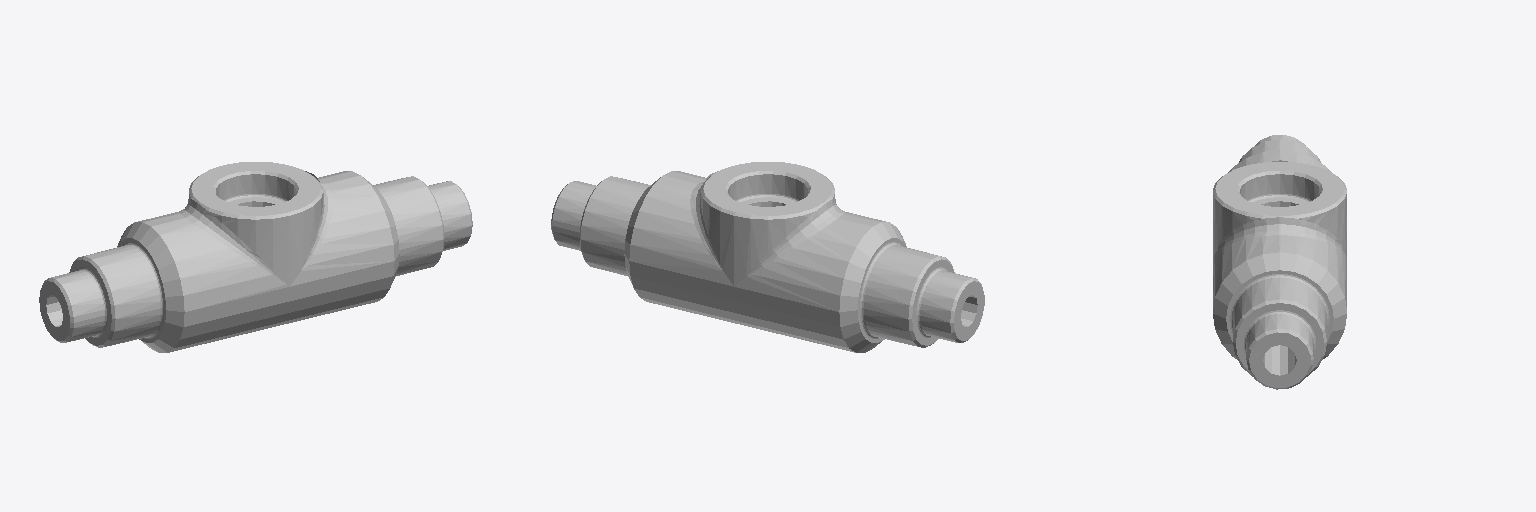
The model's file is right_hand_roll_link.obj.
3 views of the same model, side by side, from view 1: azimuth 30°, elevation 25°; view 2: azimuth 150°, elevation 25°; view 3: azimuth 270°, elevation 25° (orthographic).
Visible parts, largest first — view 1: right_hand_roll_link; view 2: right_hand_roll_link; view 3: right_hand_roll_link.
Boxes of the visible parts, box(x1,y1,x2,y2) form: right_hand_roll_link: box(39, 162, 472, 352); right_hand_roll_link: box(551, 162, 984, 352); right_hand_roll_link: box(1213, 135, 1346, 389).
Bounding box in the file's own units: 0.0345 × 0.011 × 0.01.